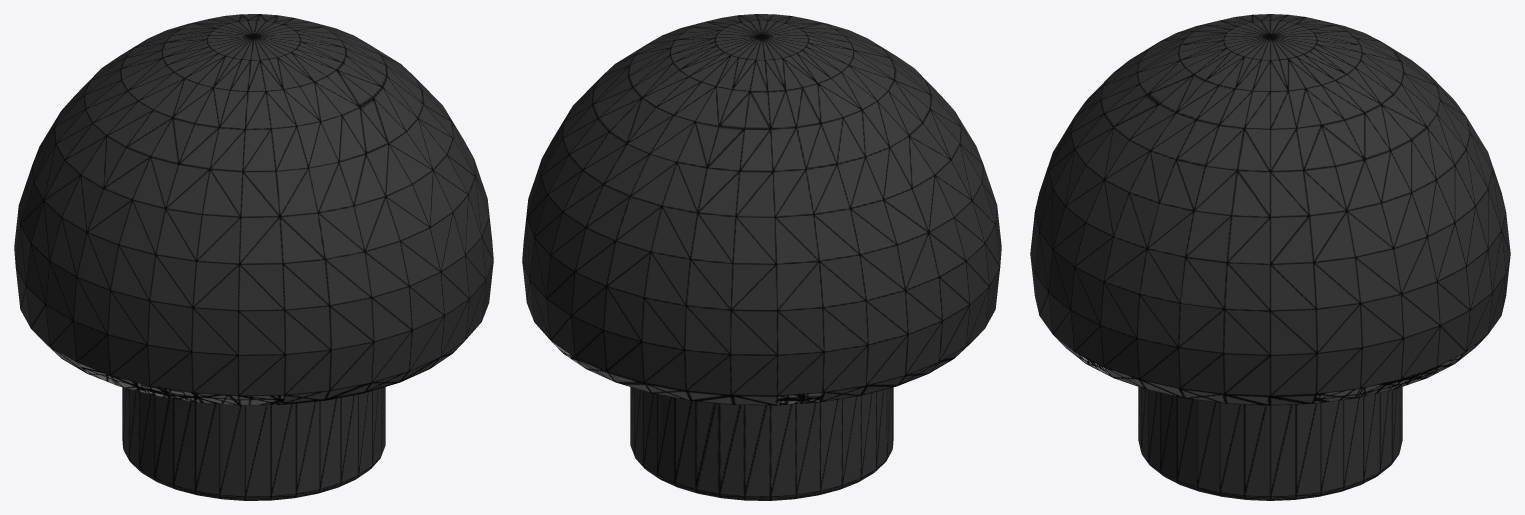
Rendered from Mushroom.fbx.
The picture shows the model from 3 angles, left to right: view 1: azimuth 30°, elevation 25°; view 2: azimuth 150°, elevation 25°; view 3: azimuth 270°, elevation 25°; orthographic projection.
Parts seen in each view (by area): view 1: Sphere, Cylinder; view 2: Sphere, Cylinder; view 3: Sphere, Cylinder.
Part boxes in pixels (box(x1,y1,x2,y2)): Sphere: box(14, 14, 493, 405); Cylinder: box(122, 387, 385, 500); Sphere: box(522, 14, 1001, 405); Cylinder: box(630, 387, 893, 500); Sphere: box(1030, 14, 1510, 405); Cylinder: box(1138, 387, 1402, 500).
Size of the model in its own units: 214 by 204 by 214.
